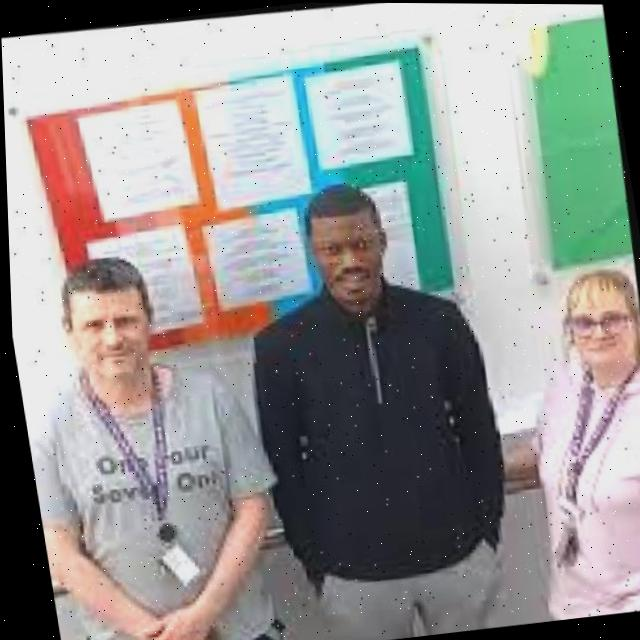id_card: (75, 360, 211, 598), (514, 358, 640, 577)
